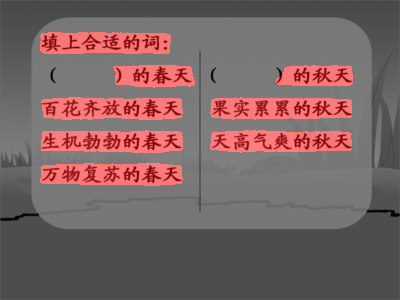text: (38, 132, 180, 152), (213, 99, 352, 118), (208, 132, 353, 150), (42, 33, 168, 53), (41, 99, 185, 116), (39, 166, 182, 183), (132, 66, 190, 86), (293, 66, 354, 84)
